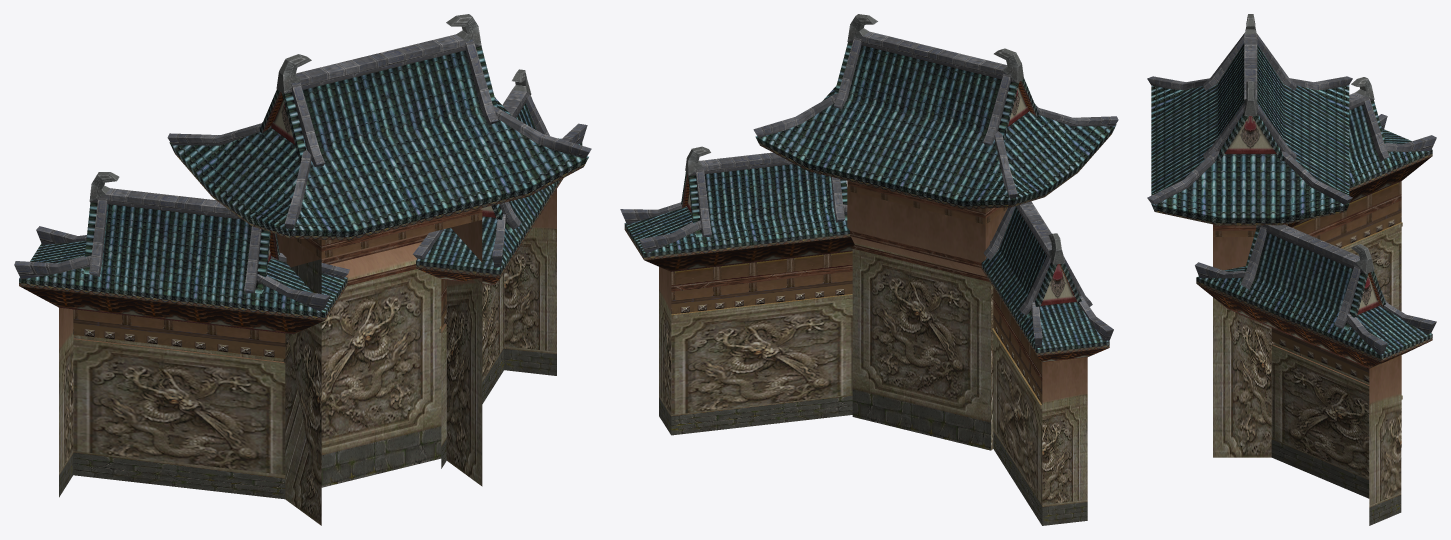
The model's file is Hangzhou_wj_069.FBX.
3 renders of one model, left to right at view 1: azimuth 30°, elevation 25°; view 2: azimuth 150°, elevation 25°; view 3: azimuth 270°, elevation 25°, orthographic. The views are drawn at different scales.
Parts seen in each view (by area): view 1: Box002; view 2: Box002; view 3: Box002.
Part boxes in pixels (box(x1,y1,x2,y2)): Box002: box(14, 14, 591, 525); Box002: box(620, 14, 1118, 525); Box002: box(1147, 14, 1436, 525).
Bounding box in the file's own units: 1174 × 888 × 621.
4 materials, 4 textured.
